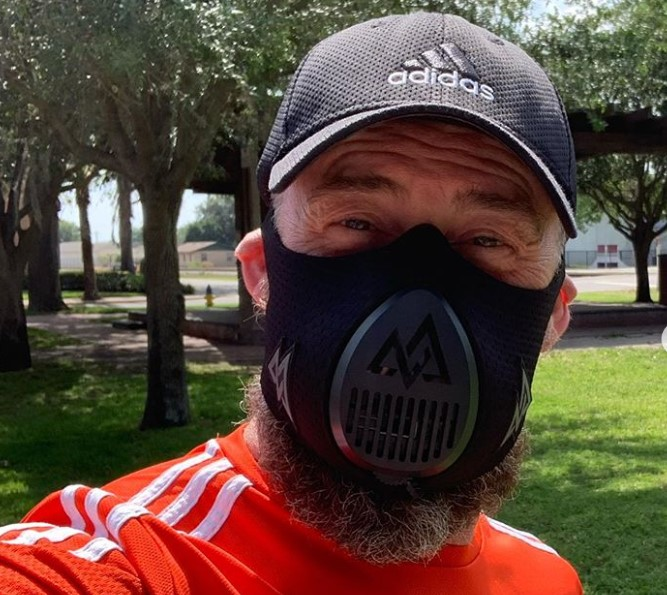face_with_mask: (250, 10, 578, 509)
